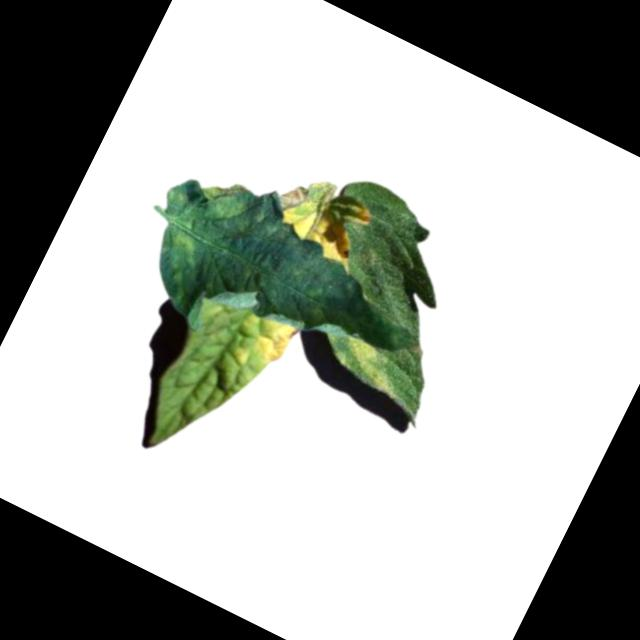Leaf_Mold: (272, 171, 377, 273), (223, 305, 299, 387), (189, 168, 270, 243), (324, 331, 405, 402)
